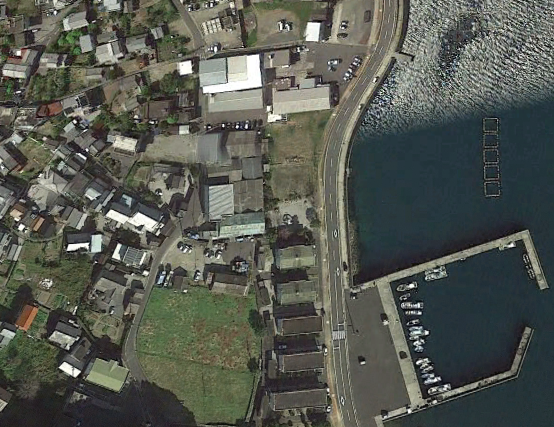house: (196, 58, 263, 88), (270, 84, 334, 112), (82, 358, 131, 392), (267, 388, 334, 411), (273, 242, 322, 270), (275, 349, 330, 372), (231, 178, 268, 212), (272, 313, 331, 334), (207, 90, 266, 110), (207, 270, 251, 296), (276, 280, 322, 304), (217, 213, 269, 234), (129, 200, 162, 233), (204, 182, 233, 218), (93, 268, 127, 298), (227, 127, 261, 156), (115, 241, 149, 268), (108, 130, 144, 155), (13, 303, 42, 331), (93, 41, 127, 64), (1, 142, 22, 177), (47, 322, 77, 345), (56, 358, 86, 381), (198, 15, 236, 33), (262, 48, 294, 68), (302, 18, 326, 44), (124, 288, 145, 317), (7, 47, 37, 67), (240, 154, 265, 177), (40, 170, 65, 193), (87, 178, 108, 205), (23, 210, 47, 233), (143, 97, 169, 118), (64, 231, 90, 251), (58, 204, 81, 226), (1, 12, 25, 33), (108, 202, 130, 224), (62, 10, 92, 26), (40, 52, 68, 69), (125, 31, 150, 49), (1, 64, 33, 78), (171, 274, 193, 293), (61, 156, 81, 174), (116, 74, 137, 91), (89, 231, 103, 256), (176, 59, 196, 76), (79, 128, 96, 148), (89, 138, 105, 159), (168, 126, 195, 138), (73, 92, 91, 109), (78, 34, 94, 53), (101, 1, 125, 13), (172, 175, 190, 191), (173, 89, 192, 104), (44, 135, 61, 151), (9, 243, 22, 263), (121, 95, 140, 108), (150, 24, 165, 40), (14, 33, 34, 45), (86, 67, 105, 79), (175, 109, 194, 120)
ship: (421, 266, 450, 279), (522, 252, 535, 280), (425, 381, 454, 392), (497, 239, 519, 252), (400, 299, 426, 309), (395, 279, 418, 290), (399, 309, 430, 316), (421, 373, 444, 382), (408, 326, 430, 335), (416, 356, 430, 365), (406, 317, 420, 325), (399, 292, 412, 300), (408, 335, 421, 342), (415, 344, 425, 352)
square: (480, 113, 503, 134), (480, 145, 503, 165), (482, 162, 502, 181), (482, 130, 501, 149), (483, 179, 502, 198)
